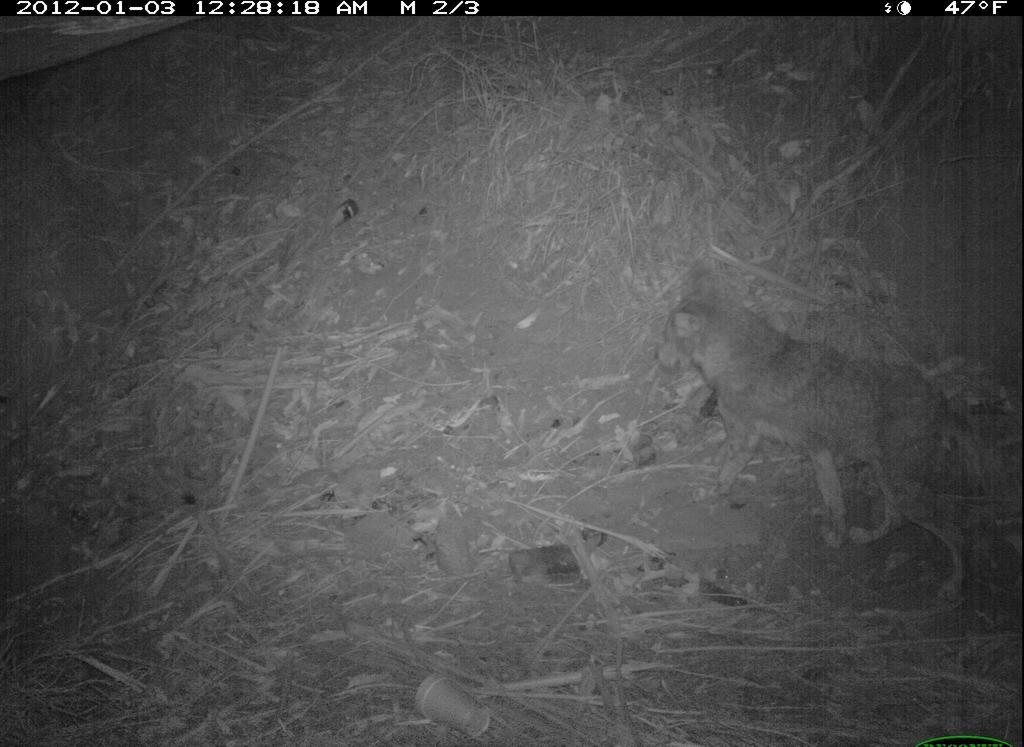coyote: (655, 260, 999, 610)
